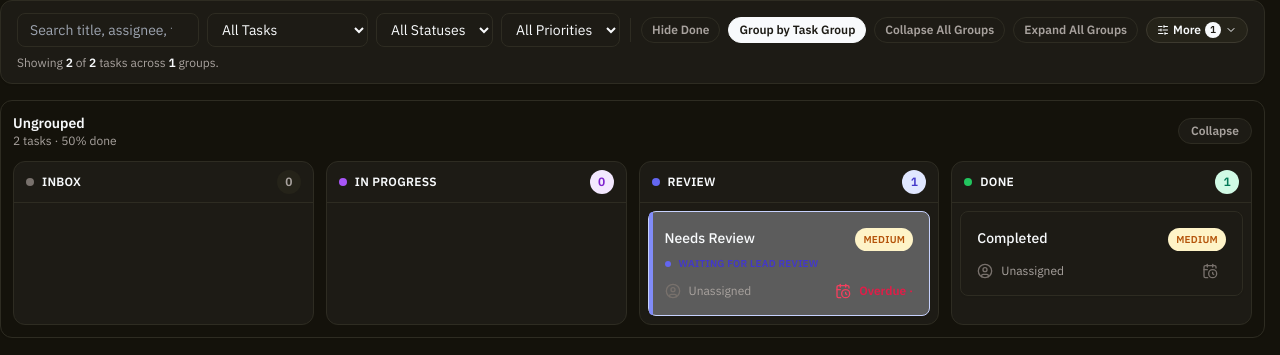
Test case: TaskBoard overlay › applies status filter from overlay filter bar
This screenshot has width=1280, height=355.
Step 1. Select "Review" in the dropdown named "status filter" → [434, 30], box [376, 13, 493, 47]
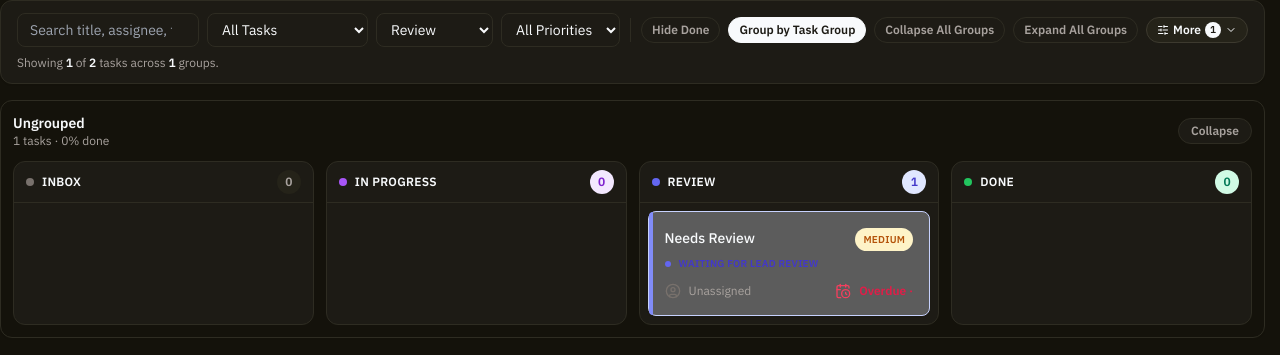
Check: the text "Needs Review" is shown, box [664, 229, 755, 247]
Check: the button "Completed" is gone
